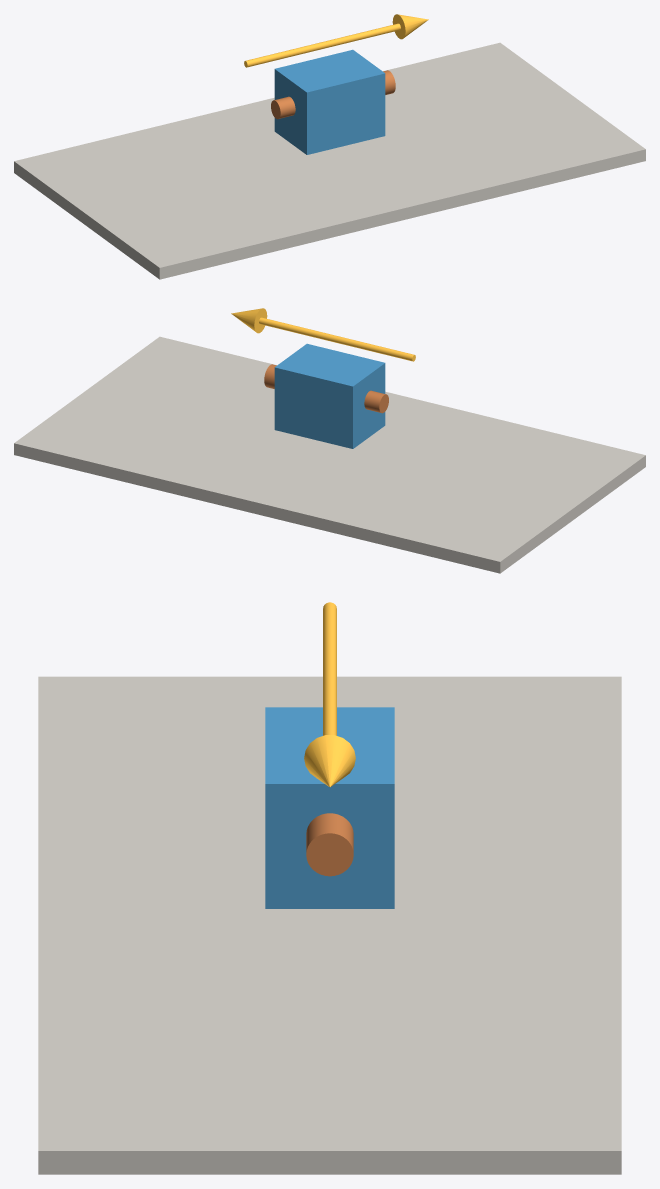
File: physics-electricity-battery.glb
3 renders of one model, top to bottom at view 1: azimuth 30°, elevation 25°; view 2: azimuth 150°, elevation 25°; view 3: azimuth 270°, elevation 25°, orthographic. The views are drawn at different scales.
Visible parts, largest first — view 1: circuit-base, battery-case, voltage-push-arrow-shaft, voltage-push-arrow-head, negative-terminal; view 2: circuit-base, battery-case, voltage-push-arrow-shaft, voltage-push-arrow-head, negative-terminal; view 3: circuit-base, battery-case, positive-terminal, voltage-push-arrow-head, voltage-push-arrow-shaft.
Boxes of the visible parts, x1=… form: circuit-base: x1=14, y1=42, x2=645, y2=279; battery-case: x1=274, y1=49, x2=385, y2=154; voltage-push-arrow-shaft: x1=244, y1=23, x2=400, y2=67; voltage-push-arrow-head: x1=392, y1=14, x2=428, y2=39; negative-terminal: x1=271, y1=96, x2=295, y2=119; circuit-base: x1=14, y1=336, x2=645, y2=573; battery-case: x1=274, y1=343, x2=385, y2=448; voltage-push-arrow-shaft: x1=259, y1=317, x2=415, y2=361; voltage-push-arrow-head: x1=231, y1=308, x2=267, y2=333; negative-terminal: x1=364, y1=390, x2=388, y2=413; circuit-base: x1=38, y1=676, x2=621, y2=1174; battery-case: x1=265, y1=707, x2=394, y2=908; positive-terminal: x1=306, y1=813, x2=353, y2=876; voltage-push-arrow-head: x1=304, y1=735, x2=355, y2=786; voltage-push-arrow-shaft: x1=323, y1=602, x2=336, y2=735.
Size of what is drawn, in the model's own units: 2.6 by 0.6891 by 1.35.
